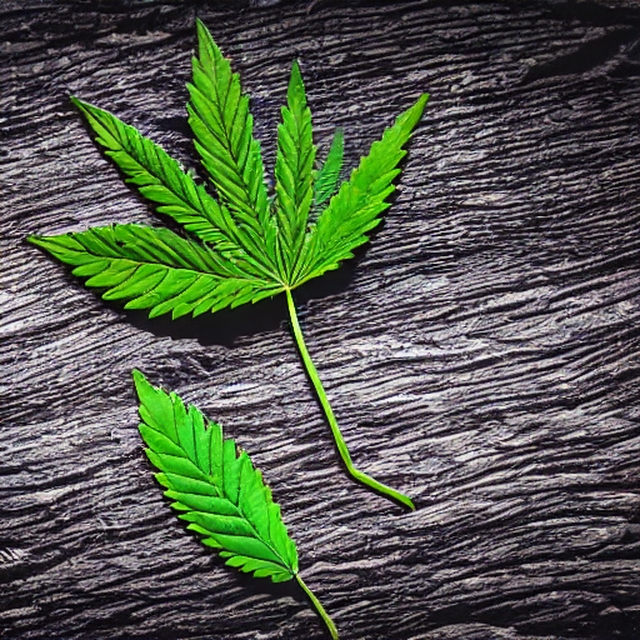Marijuana Leaf: (24, 14, 431, 514), (129, 366, 340, 639)
